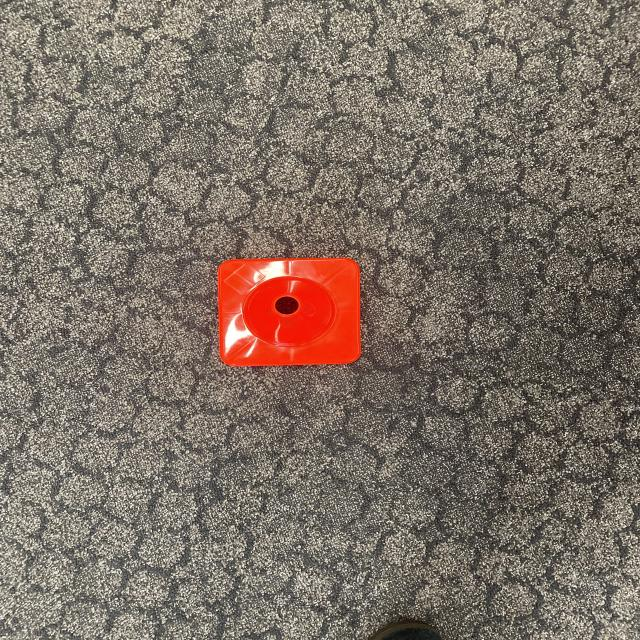Traffic Cone: (203, 246, 377, 380)
